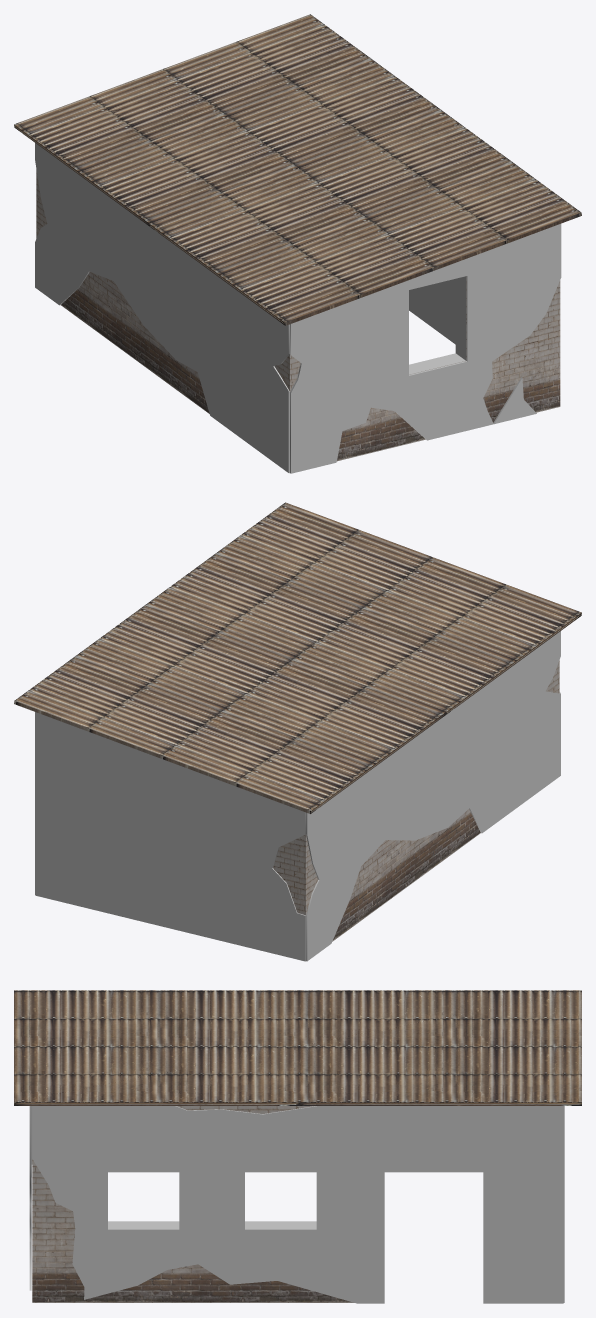
Rendered from enterance_house_lod1.fbx.
The picture shows the model from 3 angles, top to bottom: view 1: azimuth 30°, elevation 25°; view 2: azimuth 150°, elevation 25°; view 3: azimuth 270°, elevation 25°; orthographic projection. The views are drawn at different scales.
Parts seen in each view (by area): view 1: Mesh Object; view 2: Mesh Object; view 3: Mesh Object.
Part boxes in pixels (left/top/right/bottom): Mesh Object: left=14, top=14, right=581, bottom=473; Mesh Object: left=14, top=502, right=581, bottom=961; Mesh Object: left=14, top=990, right=581, bottom=1303.
Size of the model in its own units: 3.96 by 2.52 by 6.26.
